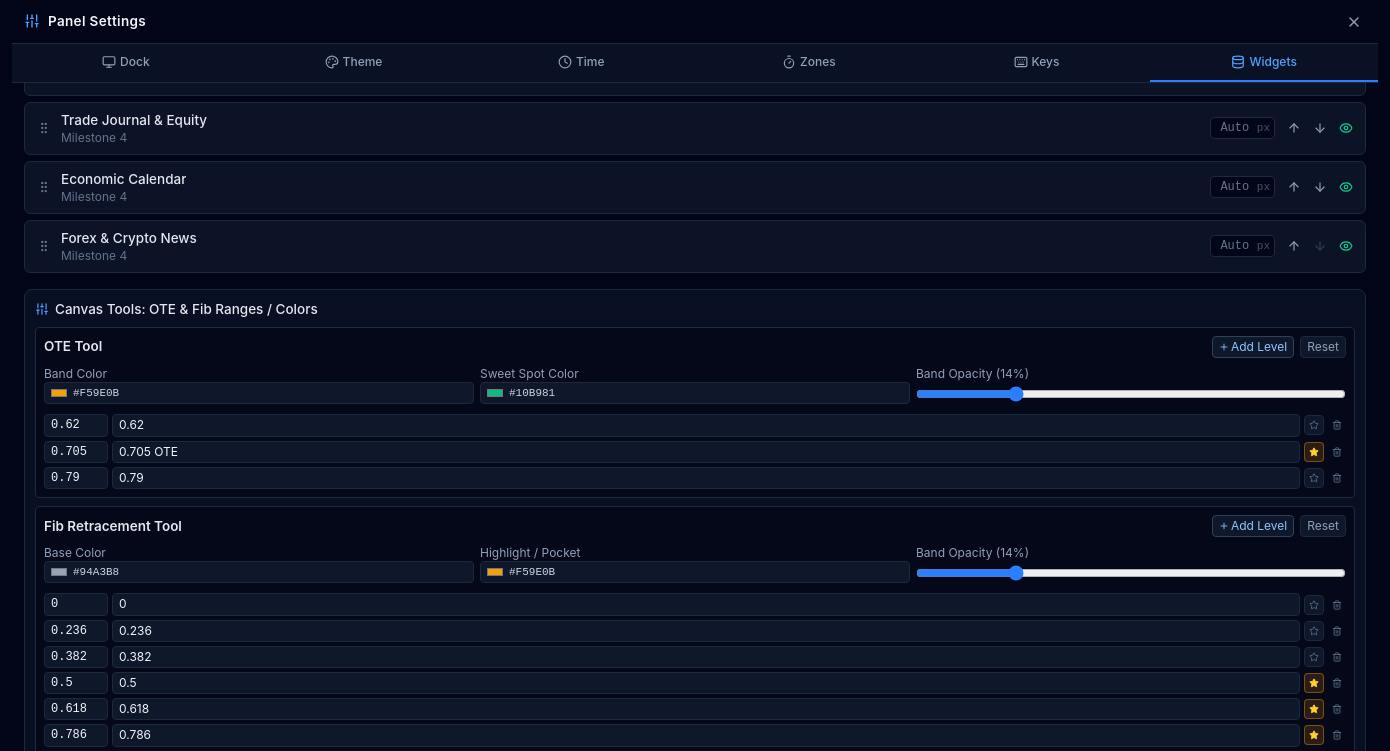
Test case: DrawingCanvas & CanvasMiniPreview › allows dynamic editing and resetting of OTE & Fib ranges and colors in Settings > Widgets
The image size is (1390, 751).
Later steps or results of the test are not shown.
(page scrolled)
Check: the text "Canvas Tools: OTE & Fib Ranges / Colors" is shown, box 35,300 -> 318,319
Type "0.618" into the field named "ote level 1 ratio" at x=76, y=425, box 44,414 -> 108,436
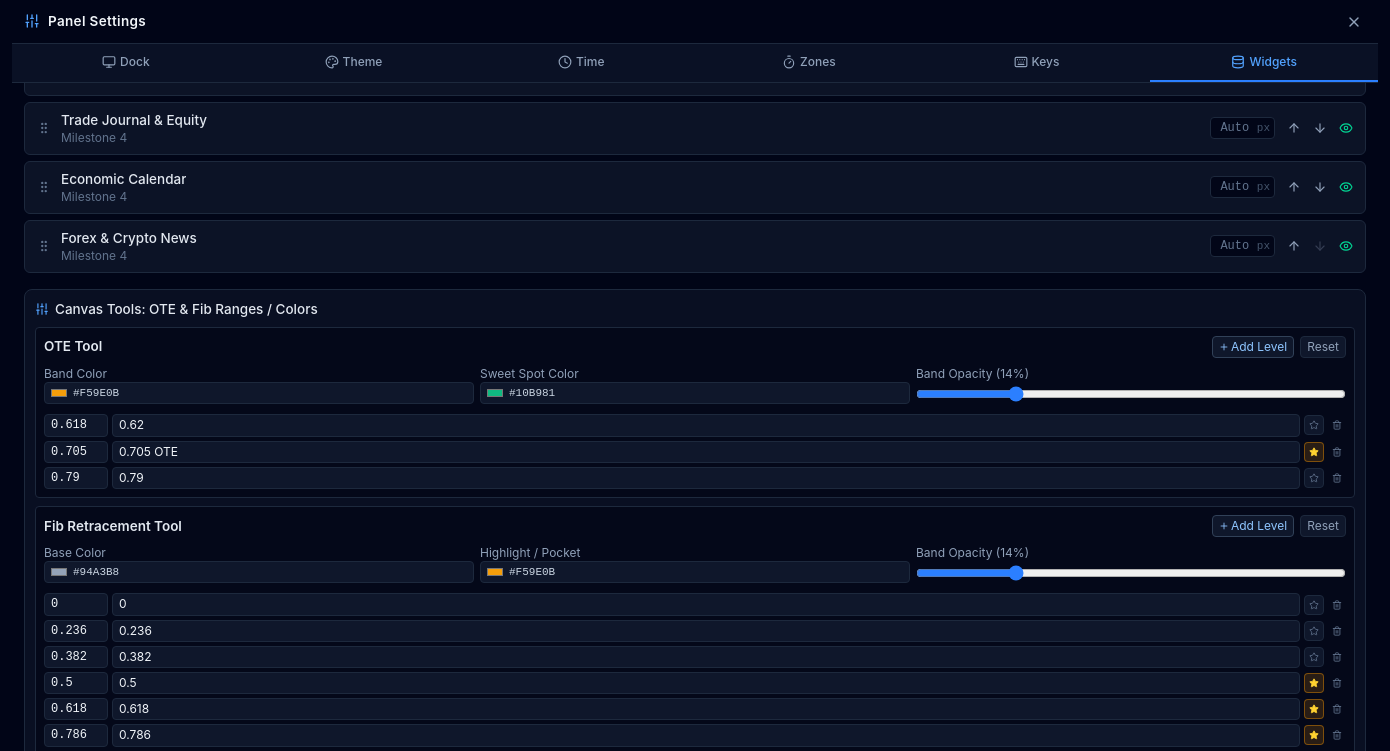
Type "#3b82f6" into the colour field named "ote Band Color" at x=59, y=393, box 49,385 -> 69,401
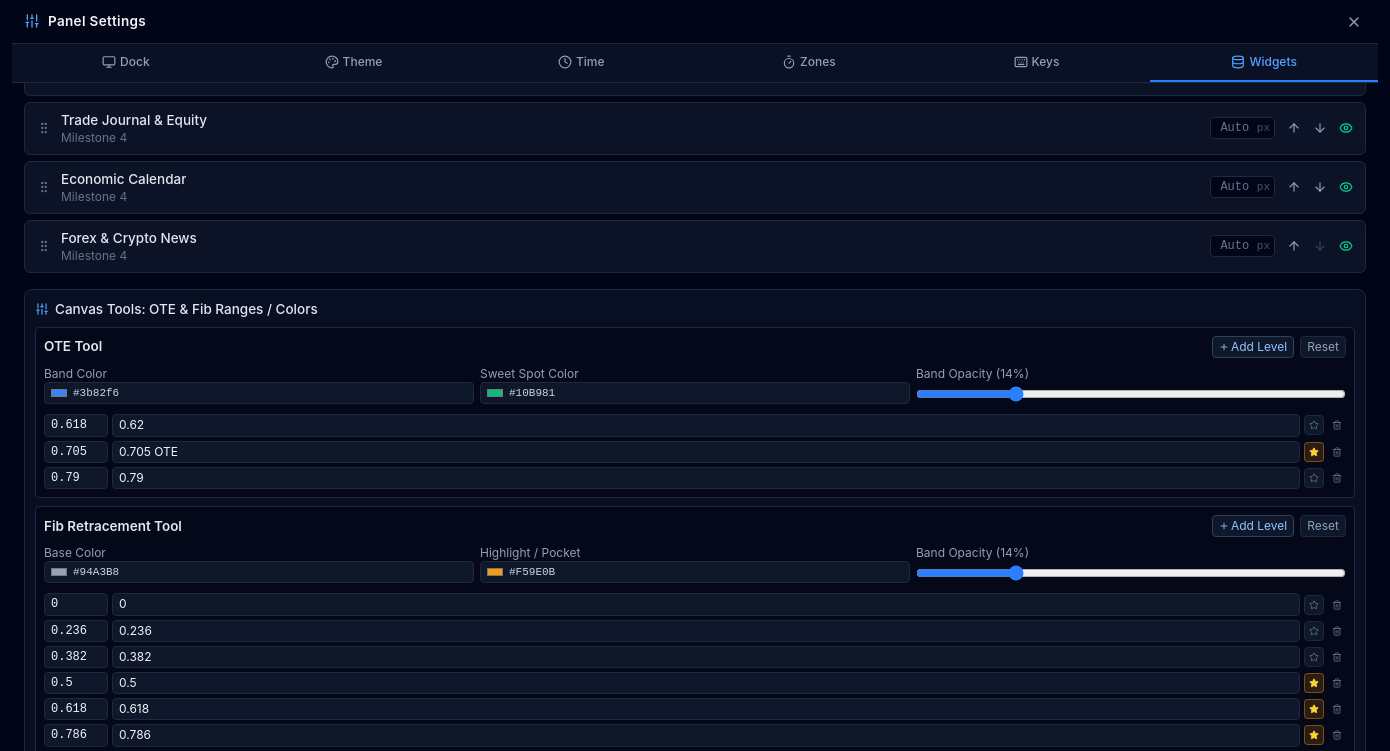
Check: the text "#3b82f6" is shown, box 73,386 -> 119,400
